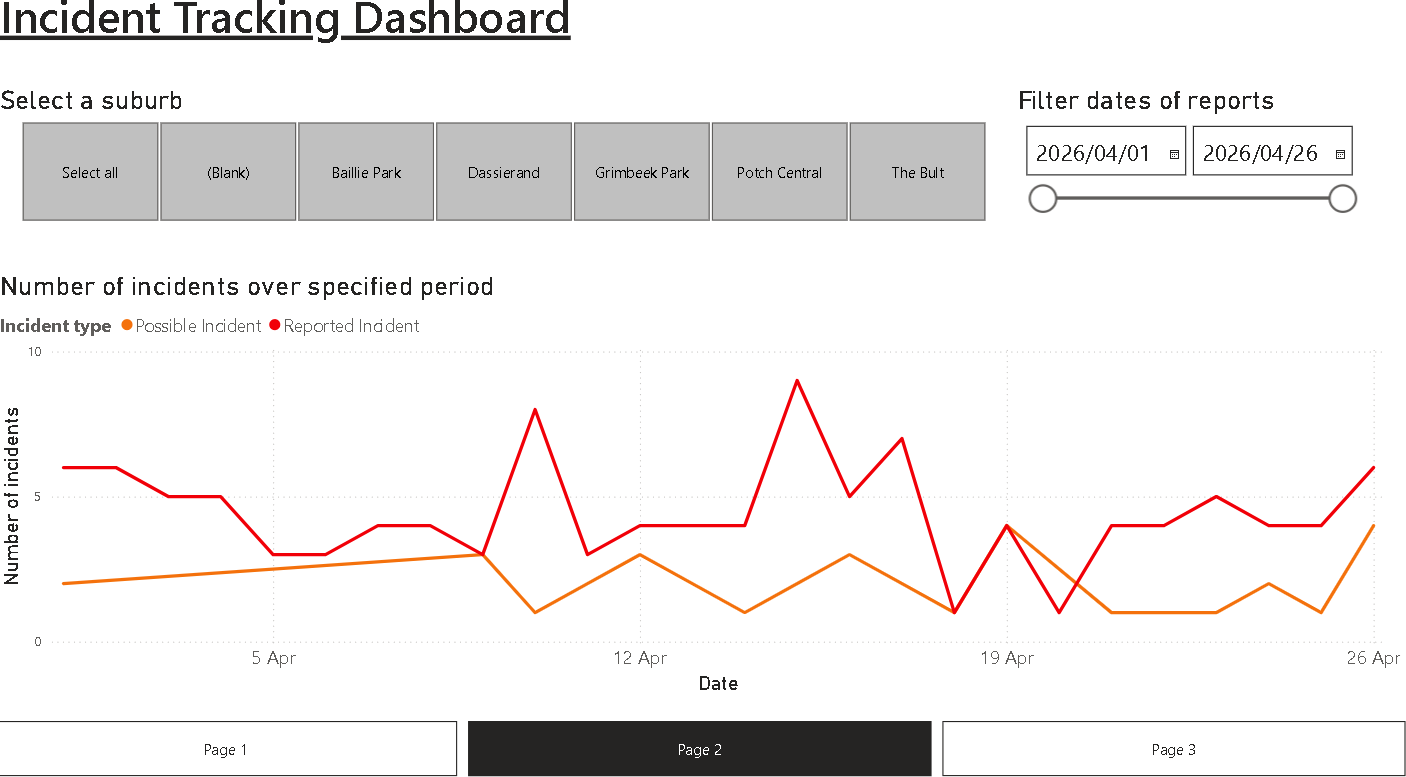

The dashboard page shown, as its layout file describes it:
{"tool":"powerbi","page":{"name":"Page 2","canvas":[1280,720],"ordinal":1},"visuals":[{"type":"lineChart","title":"Number of incidents over specified period","fields":{"Y":["CountNonNull(IncidentHistory.id)"],"Series":["IncidentHistory.incident_type"],"Category":["IncidentHistory.date_only"]},"box":[0,258.7,1280,389.1],"z":0},{"type":"slicer","title":"Select a suburb","fields":{"Values":["SensorMaster.suburb"]},"box":[0,90.2,923.2,130.4],"z":1000},{"type":"slicer","title":"Filter dates of reports","fields":{"Values":["IncidentHistory.date_only"]},"box":[923.2,90.2,321.5,130.4],"z":2000},{"type":"pageNavigator","box":[0,666.2,1280,50.3],"z":3000},{"type":"textbox","title":"Incident Tracking Dashboard","box":[0,0,835.5,63.2],"z":4000}]}

Visuals, with their boxes in screenshot pixels (x1, y1, x2, y2), scaled from the page's 1280x720 canvas onto the 1406x777 screenshot:
"Number of incidents over specified period" lineChart: 0,279,1405,699
"Select a suburb" slicer: 0,97,1014,238
"Filter dates of reports" slicer: 1014,97,1367,238
pageNavigator: 0,719,1405,773
"Incident Tracking Dashboard" textbox: 0,0,918,68
